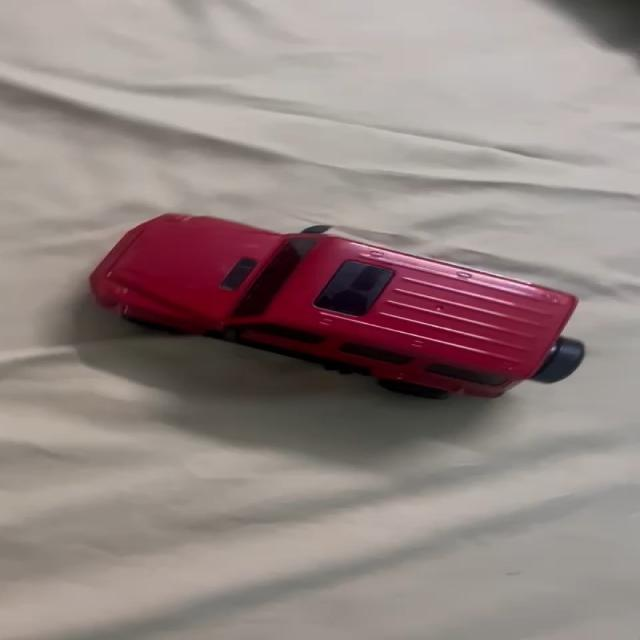light_vehicle: (58, 204, 606, 408)
